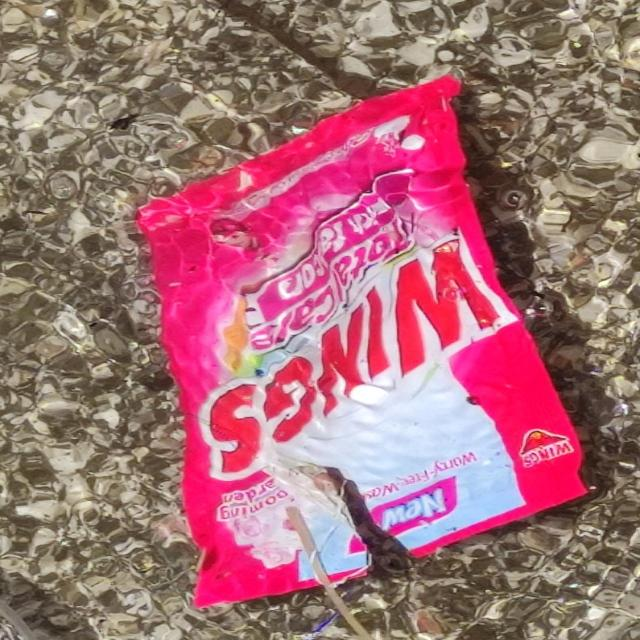plastic_waste: (126, 71, 602, 613)
